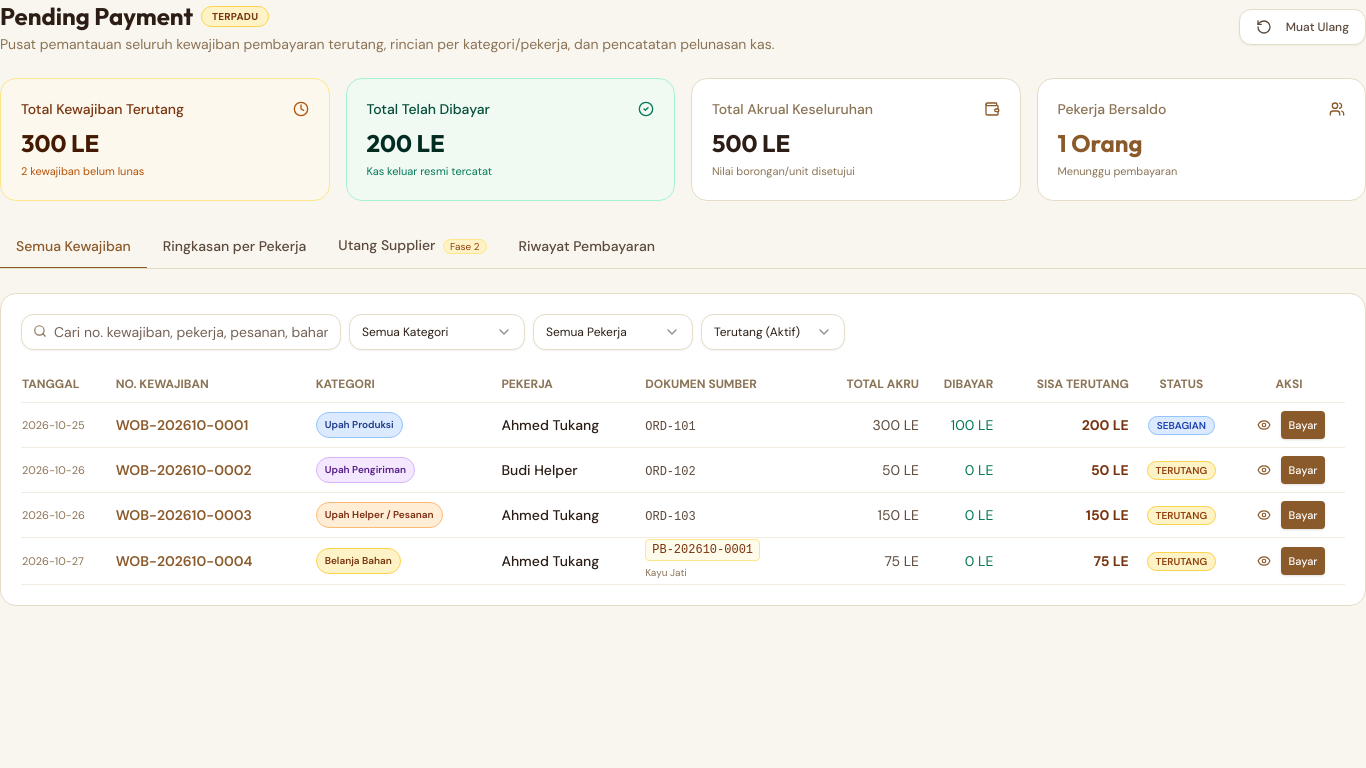
Scenario: AdminWorkerPendingWages - Unit & Component Mount Tests › clicking Bayar Upah opens settlement modal with pre-filled pending amount
This screenshot has width=1366, height=768.
Click the button with test id "settle-btn-w_1" at (1303, 424), box x1=1280 y1=410 x2=1326 y2=438
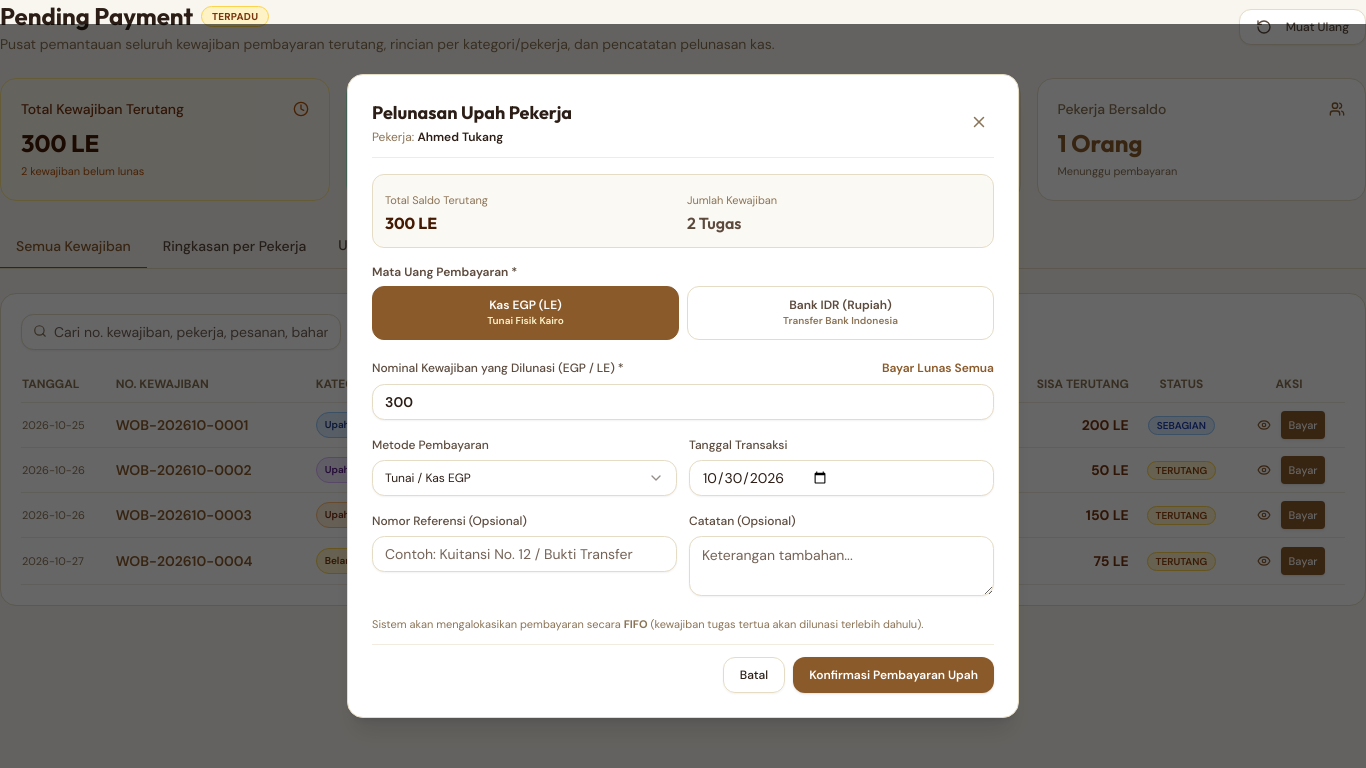
Now the element with test id "settle-wage-modal" is shown
Now the number field with test id "settle-amount-input" holds "300", box x1=372 y1=384 x2=994 y2=420
